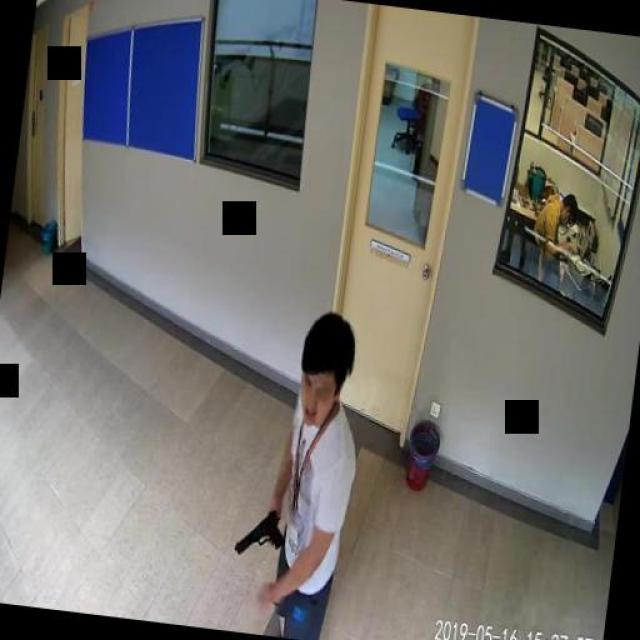gun: (235, 505, 284, 556)
